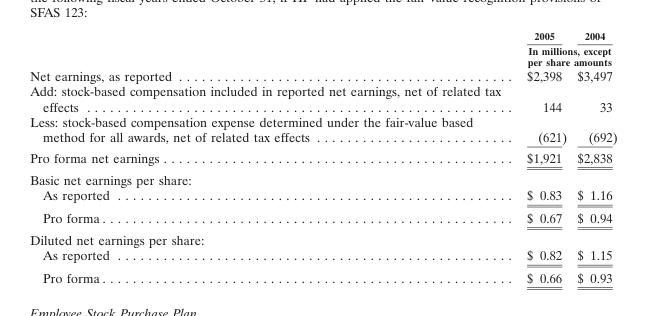table: (29, 29, 616, 284)
table column: (29, 29, 513, 284), (513, 29, 571, 284), (571, 29, 616, 284)
table column header: (29, 29, 616, 67)
table projected row header: (29, 168, 616, 187), (29, 228, 616, 247)
table row: (29, 113, 616, 146), (29, 83, 616, 113), (29, 43, 616, 67), (29, 205, 616, 228), (29, 146, 616, 168), (29, 168, 616, 187), (29, 228, 616, 247), (29, 265, 616, 284), (29, 187, 616, 205), (29, 247, 616, 265), (29, 67, 616, 83), (29, 29, 616, 43)
table spanning cell: (513, 43, 616, 67)
